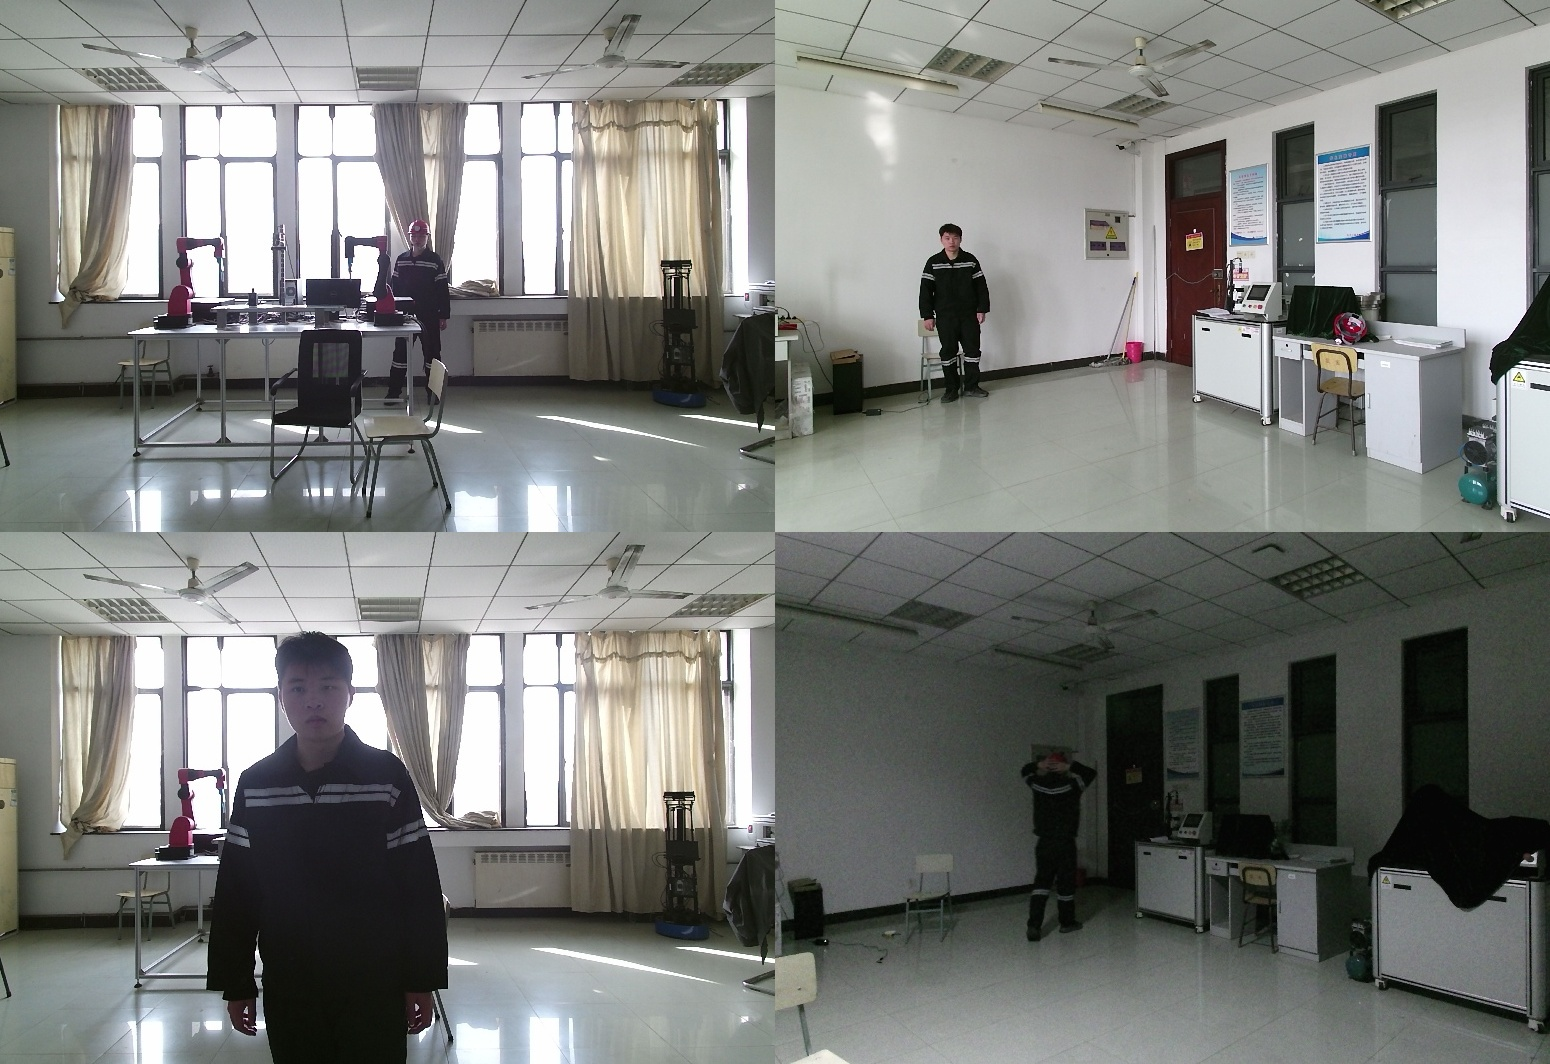person: (220, 632, 459, 1064), (1011, 754, 1092, 952), (919, 226, 994, 405), (387, 220, 455, 420)
